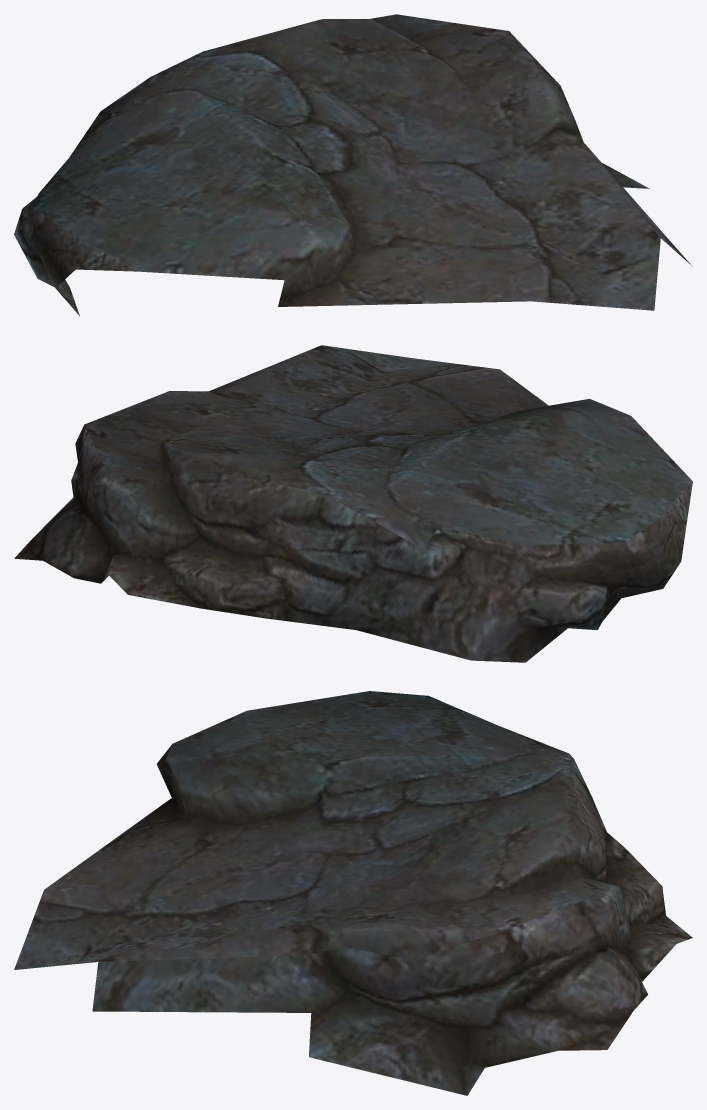
File: S_Rock_Yellow036_H03.FBX
3 views of the same model, one above another, from view 1: azimuth 30°, elevation 25°; view 2: azimuth 150°, elevation 25°; view 3: azimuth 270°, elevation 25° (orthographic). The views are drawn at different scales.
Parts seen in each view (by area): view 1: S_Rock_Yellow036_H03; view 2: S_Rock_Yellow036_H03; view 3: S_Rock_Yellow036_H03.
Part boxes in pixels (box(x1,y1,x2,y2)): S_Rock_Yellow036_H03: box(14, 14, 692, 315); S_Rock_Yellow036_H03: box(14, 345, 692, 662); S_Rock_Yellow036_H03: box(14, 691, 692, 1095).
Bounding box in the file's own units: 960 × 951 × 279.
1 material, 1 textured.
